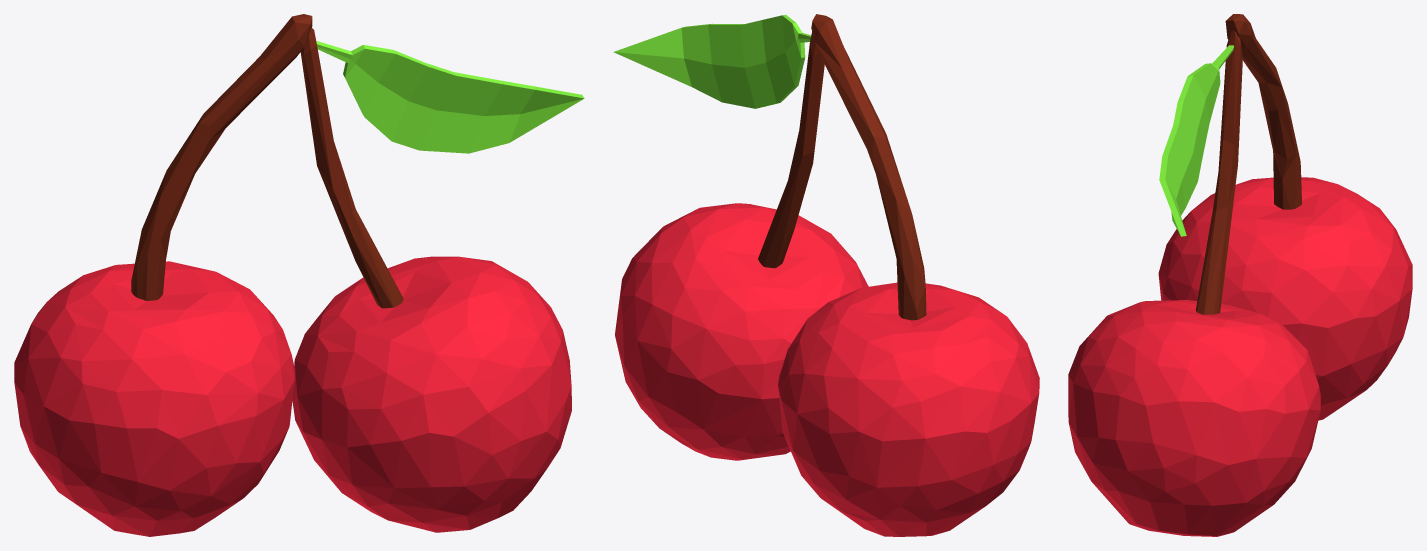
File: Cherry.fbx
3 views of the same model, side by side, from view 1: azimuth 30°, elevation 25°; view 2: azimuth 150°, elevation 25°; view 3: azimuth 270°, elevation 25° (orthographic). The views are drawn at different scales.
Parts seen in each view (by area): view 1: Cherry; view 2: Cherry; view 3: Cherry.
Boxes of the visible parts, x1,y1,x2,y2 form: Cherry: [14, 14, 584, 536]; Cherry: [613, 14, 1039, 536]; Cherry: [1068, 14, 1412, 536].
Size of the model in its own units: 44.72 by 44.35 by 29.88.
Materials: 1 (1 with a texture image).
